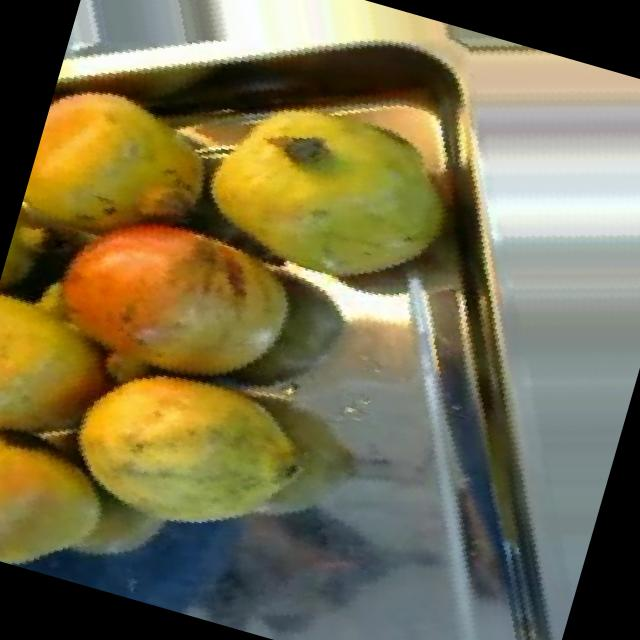fruit: (10, 163, 340, 427), (28, 312, 344, 584), (6, 45, 266, 312)
